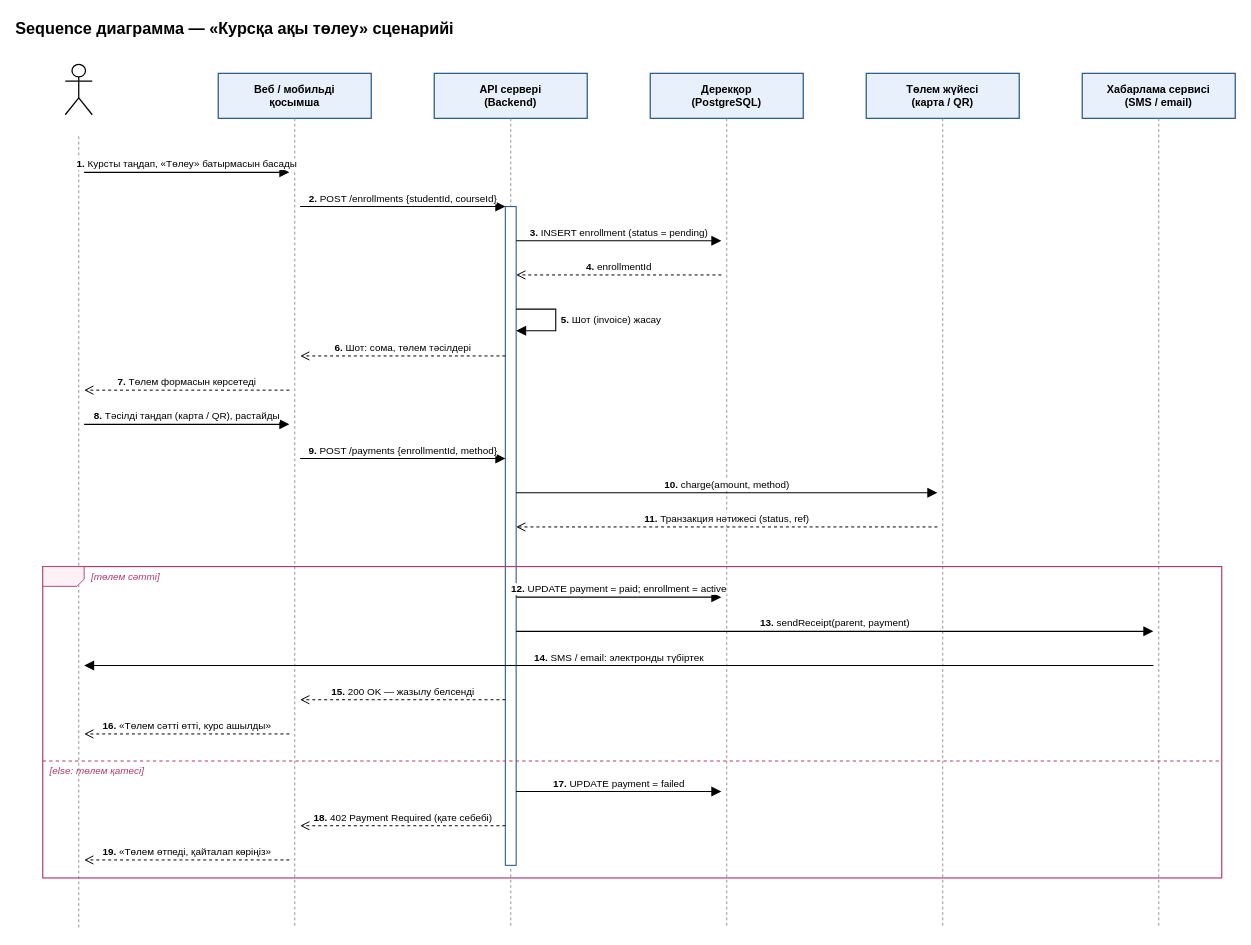
Some shapes in this 1251 by 945 pixel diagram are drawn without their labels. Here are the shapes that lost their labels. From the top down, the box of each, then its label:
(64, 63, 92, 115): Ата-ана
(42, 566, 84, 586): alt
